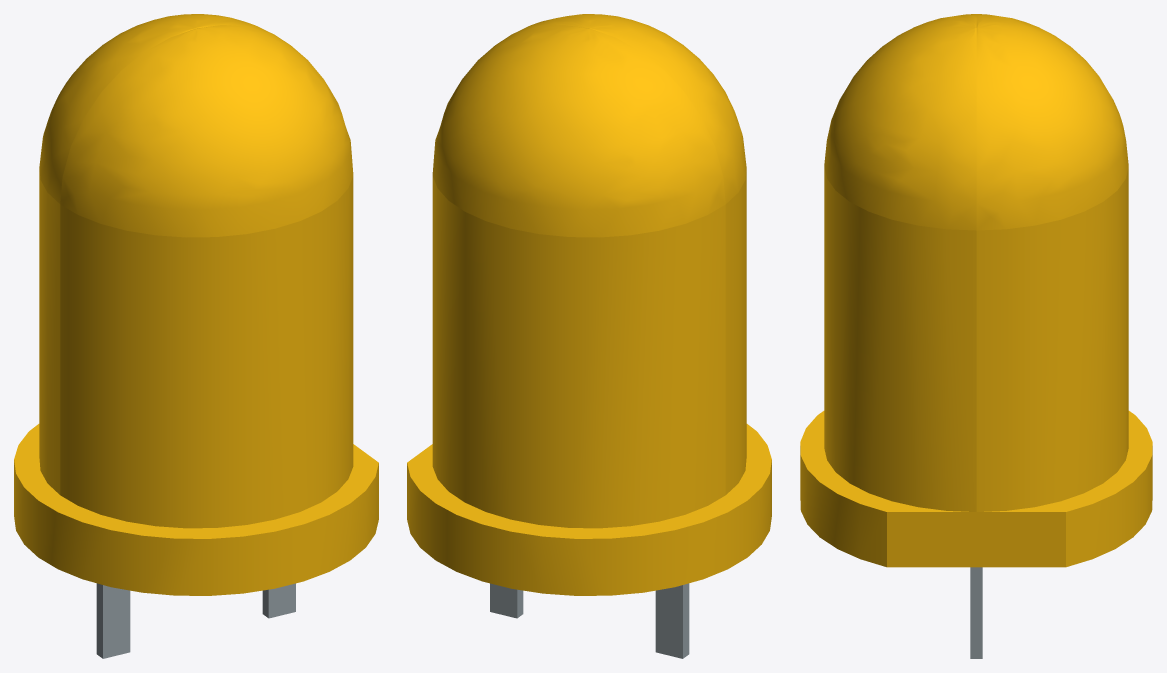
The model's file is sfe-led_pth_5mm_yellow.glb.
3 views of the same model, side by side, from view 1: azimuth 30°, elevation 25°; view 2: azimuth 150°, elevation 25°; view 3: azimuth 270°, elevation 25° (orthographic). The views are drawn at different scales.
Visible parts, largest first — view 1: 1_0.5_0_0, 0.3333333333333333_0.4166666666666667_0.4166666666666667_0; view 2: 1_0.5_0_0, 0.3333333333333333_0.4166666666666667_0.4166666666666667_0; view 3: 1_0.5_0_0, 0.3333333333333333_0.4166666666666667_0.4166666666666667_0.
Part boxes in pixels (left/top/right/bottom): 1_0.5_0_0: left=14, top=14, right=378, bottom=595; 0.3333333333333333_0.4166666666666667_0.4166666666666667_0: left=96, top=583, right=295, bottom=658; 1_0.5_0_0: left=407, top=14, right=771, bottom=595; 0.3333333333333333_0.4166666666666667_0.4166666666666667_0: left=490, top=583, right=689, bottom=658; 1_0.5_0_0: left=800, top=14, right=1152, bottom=567; 0.3333333333333333_0.4166666666666667_0.4166666666666667_0: left=970, top=567, right=982, bottom=658.
Size of the model in its own units: 0.54 by 1.06 by 0.5782.
